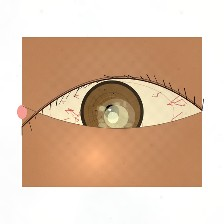corneal_ulcer: (96, 101, 136, 133)
